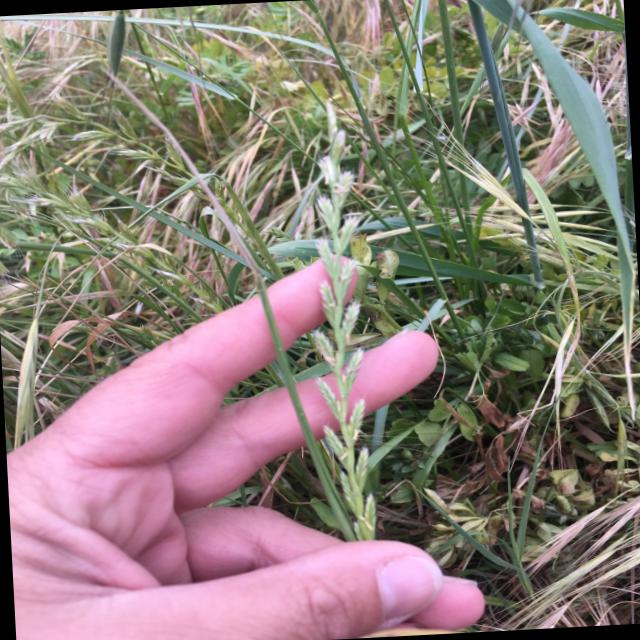Lolium: (248, 101, 392, 552), (3, 98, 266, 299)
